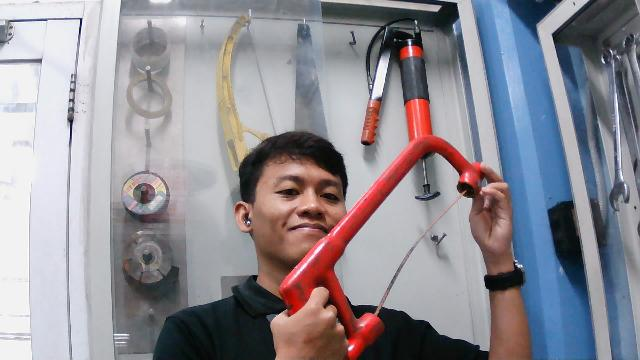gergaji_besi: (275, 133, 488, 360)
